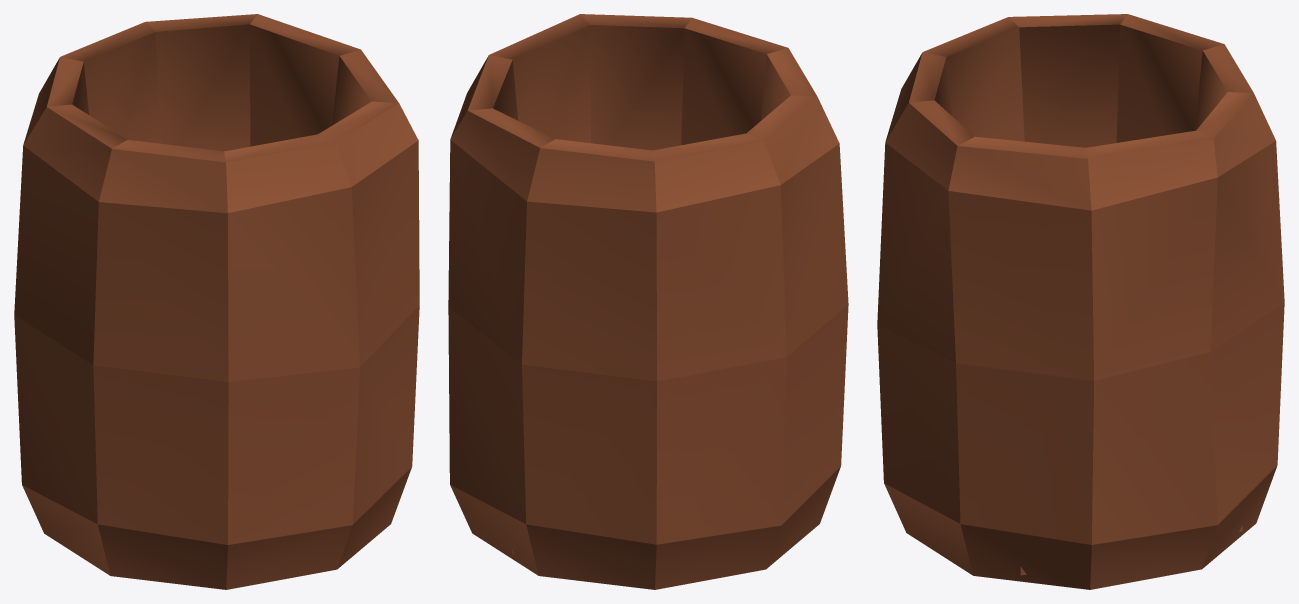
The model's file is Cup_1.fbx.
3 renders of one model, left to right at view 1: azimuth 30°, elevation 25°; view 2: azimuth 150°, elevation 25°; view 3: azimuth 270°, elevation 25°, orthographic.
Parts seen in each view (by area): view 1: Cup_1; view 2: Cup_1; view 3: Cup_1.
Part boxes in pixels (x1=…): Cup_1: x1=14, y1=14, x2=419, y2=589; Cup_1: x1=448, y1=14, x2=848, y2=589; Cup_1: x1=877, y1=14, x2=1284, y2=589.
Bounding box in the file's own units: 13.68 × 15.93 × 13.67.
